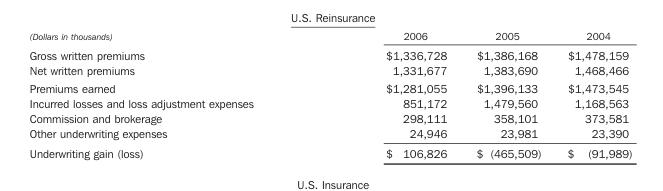table: (28, 28, 631, 160)
table column: (28, 28, 319, 160), (319, 28, 460, 160), (460, 28, 553, 160), (553, 28, 631, 160)
table column header: (28, 28, 631, 44)
table row: (28, 44, 631, 62), (28, 125, 631, 143), (28, 78, 631, 95), (28, 143, 631, 160), (28, 28, 631, 44), (28, 62, 631, 78), (28, 95, 631, 110), (28, 110, 631, 125)
